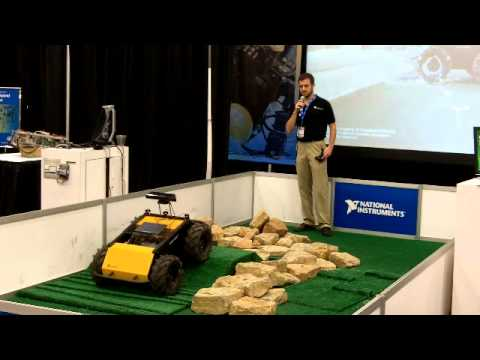husky: (91, 210, 212, 297)
